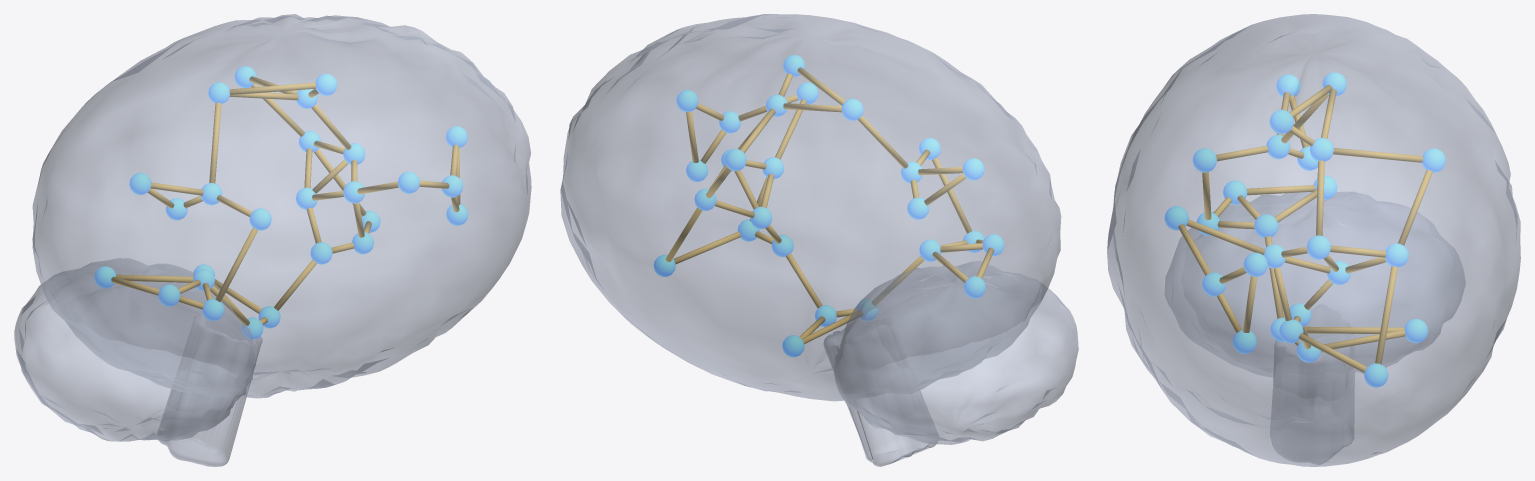
Rendered from brain.glb.
The picture shows the model from 3 angles, left to right: view 1: azimuth 30°, elevation 25°; view 2: azimuth 150°, elevation 25°; view 3: azimuth 270°, elevation 25°; orthographic projection. The views are drawn at different scales.
Parts seen in each view (by area): view 1: brain, brain_back, stem, network.007, network.041; view 2: brain, brain_back, stem; view 3: brain, brain_back, stem, network.017, network.035, network.005, network.029, network.034, network.019, network.016, network.004, network.002 (+16 smaller).
Part boxes in pixels (x1,y1,x2,y2): brain: (32,14,531,398); brain_back: (14,258,255,441); stem: (157,314,262,466); network.007: (229,82,315,95); network.041: (209,102,221,183); brain: (560,14,1061,401); brain_back: (834,261,1078,444); stem: (823,318,938,466); brain: (1107,14,1520,466); brain_back: (1165,192,1465,376); stem: (1270,305,1354,464); network.017: (1375,266,1397,364); network.035: (1333,148,1422,162); network.005: (1306,326,1404,333); network.029: (1186,219,1265,254); network.034: (1398,169,1432,245); network.019: (1316,160,1324,235); network.016: (1298,333,1366,372); network.004: (1321,330,1405,351); network.002: (1246,185,1315,195).
Bounding box in the file's own units: 1.09 × 0.8809 × 0.7414.
